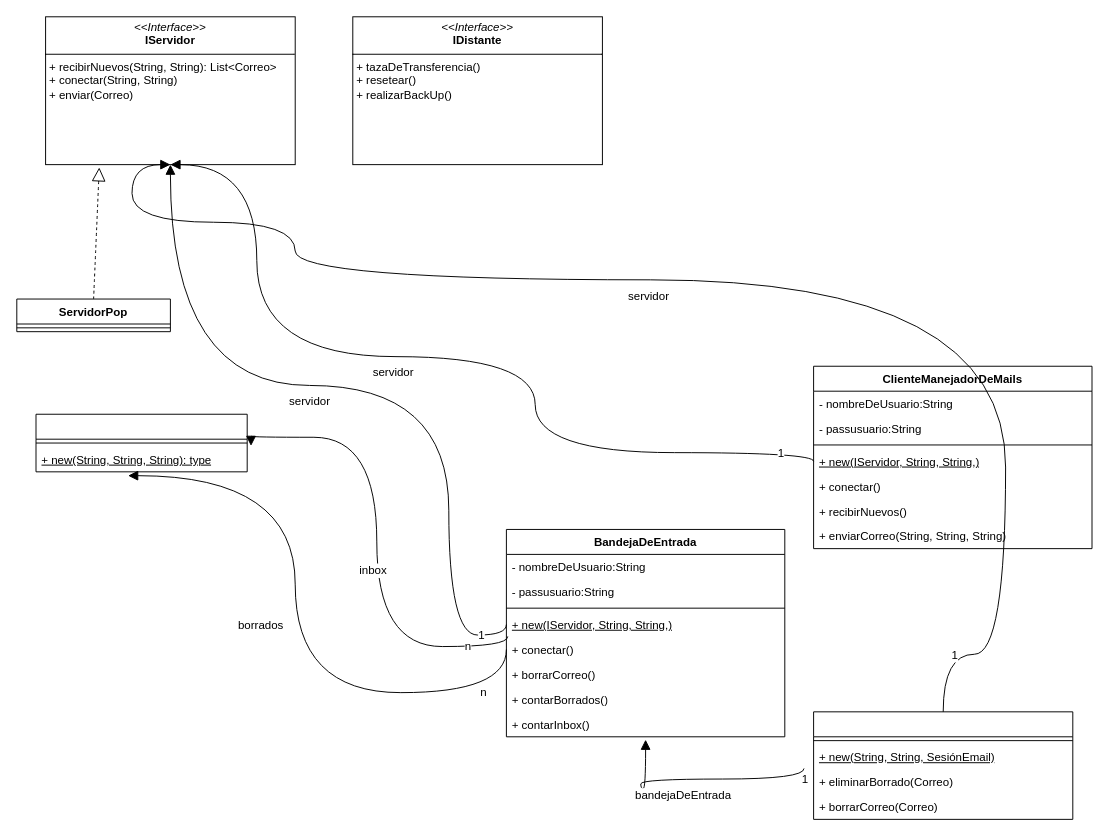
This 1109x839 diagram has some shape labels left out. The box of each missing label's shape, as (x1, y1, x2, y2) in pixels:
ClienteBorradorDeMails: (813, 711, 1073, 819)
Correo: (35, 413, 247, 472)
